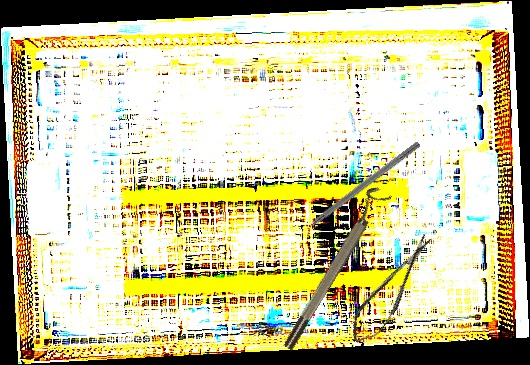Fixation Ring: (274, 183, 392, 353)
Hook Surgical: (292, 139, 422, 240)
Micro Scissor: (341, 229, 444, 350)
